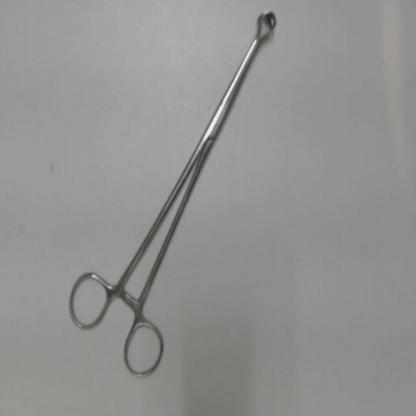8 Babcock Tissue Forceps: (64, 2, 284, 383)
